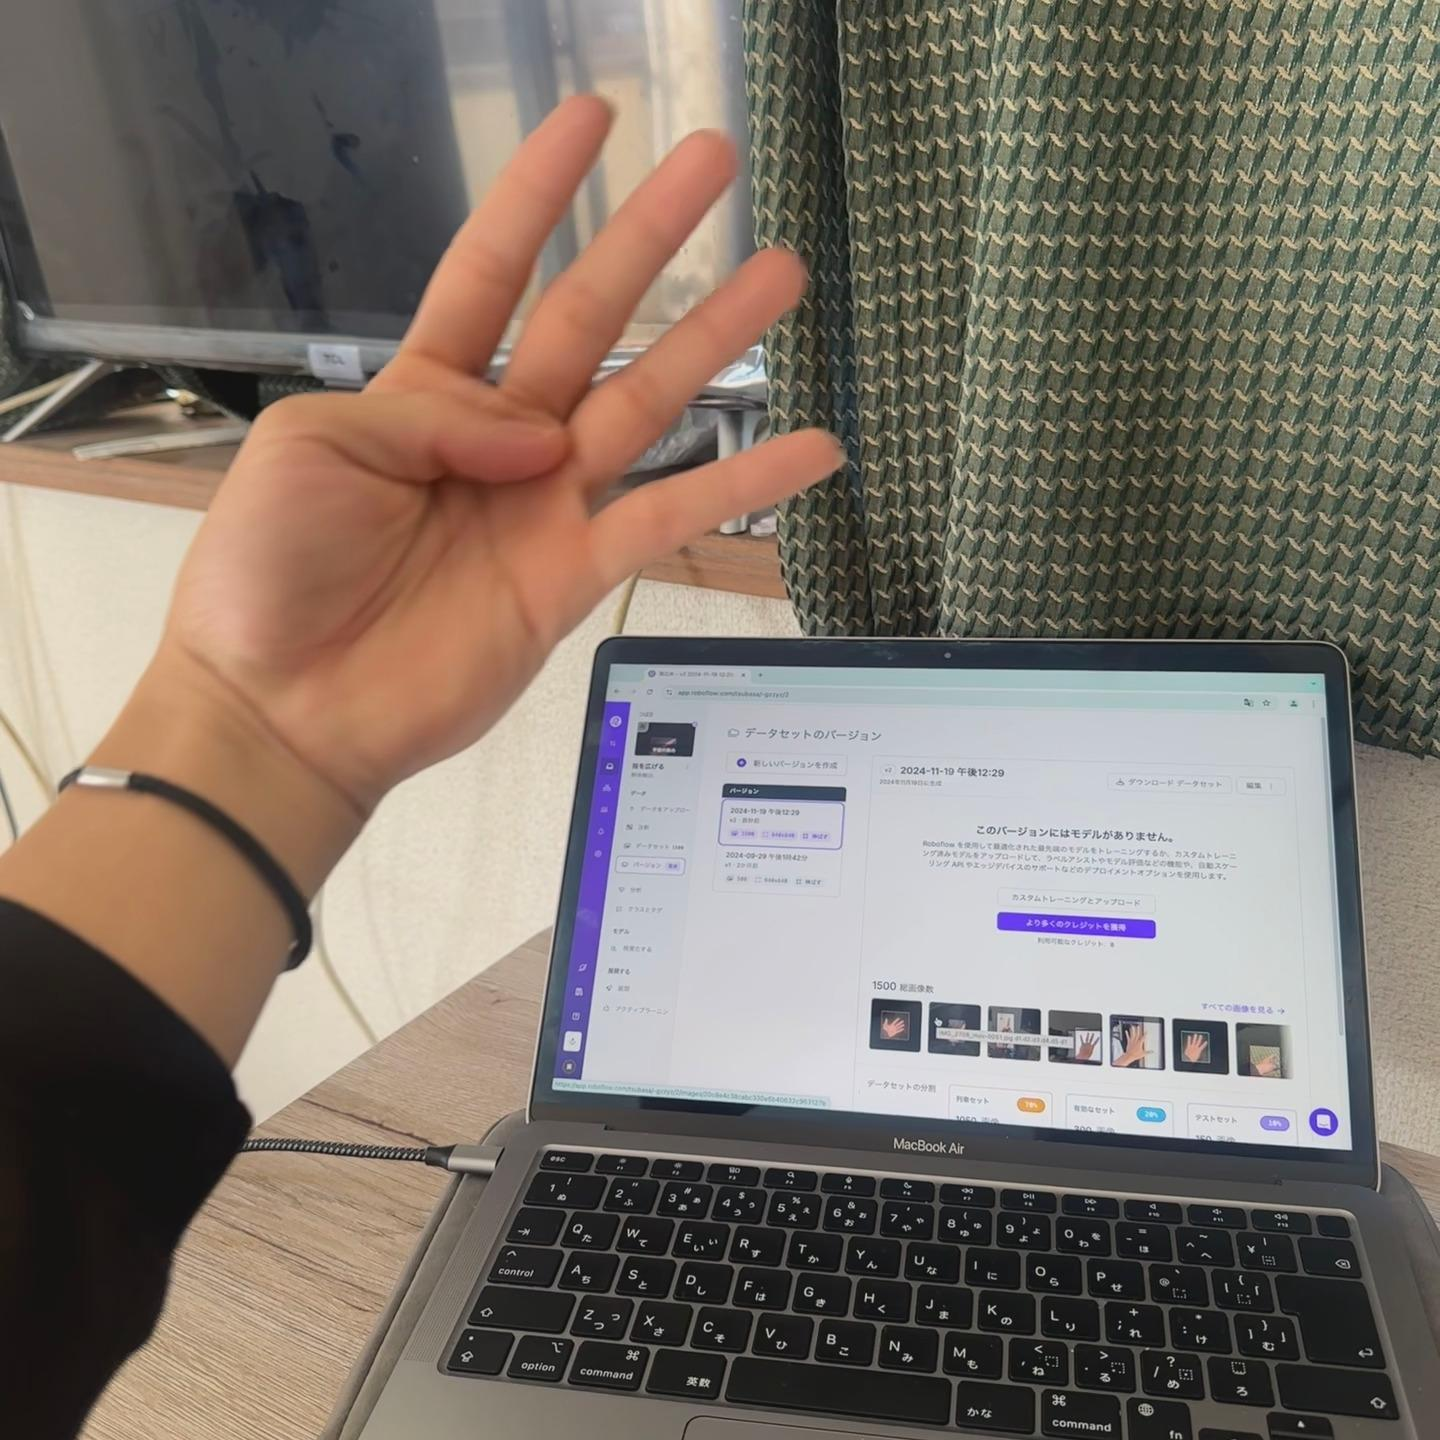without_gloves: (232, 59, 910, 745)
